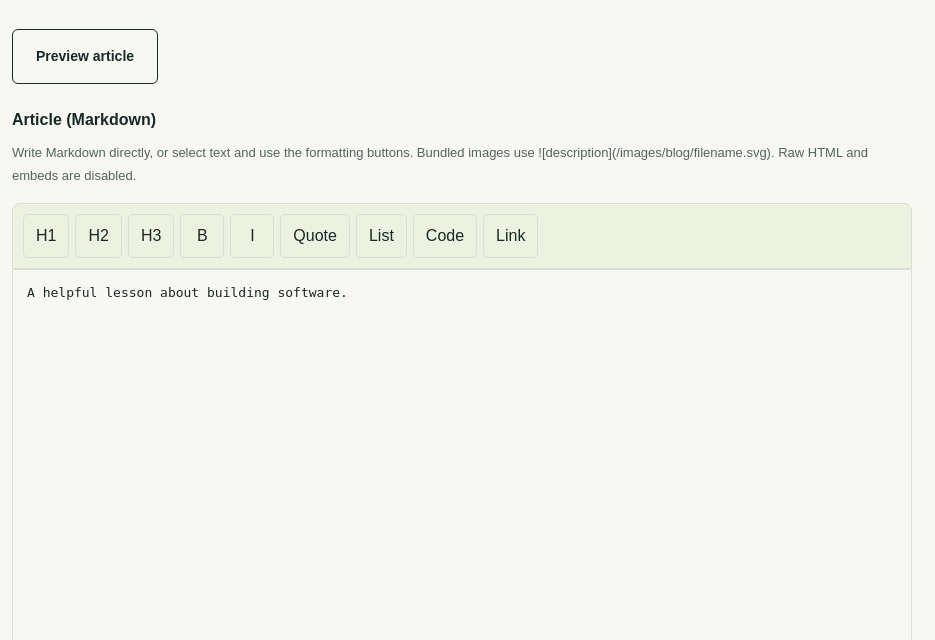
it: formats selected body text and shows it in preview
(page scrolled)
Click the button named "Bold" at (202, 236), box 180,214 -> 224,258
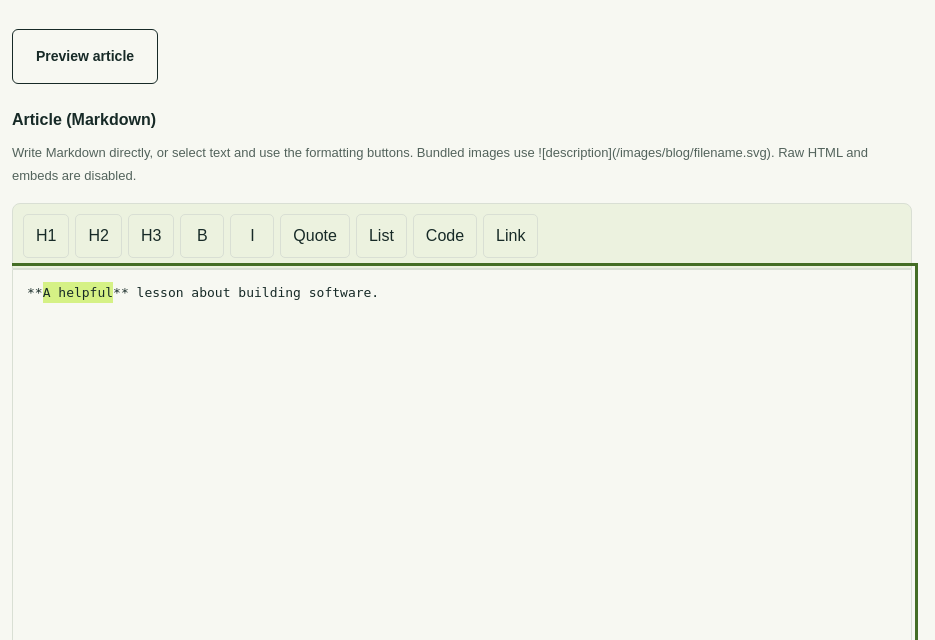
Click the button "Preview article" at (85, 57), box 12,30 -> 158,84
(page scrolled)
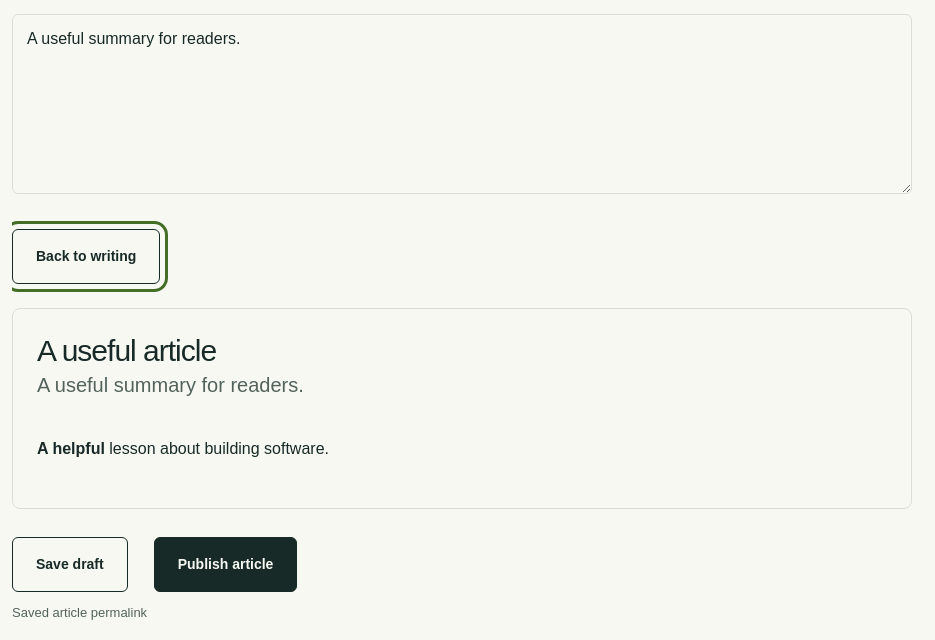
expect the text "A helpful" is shown: met, box 37,440 -> 105,458
